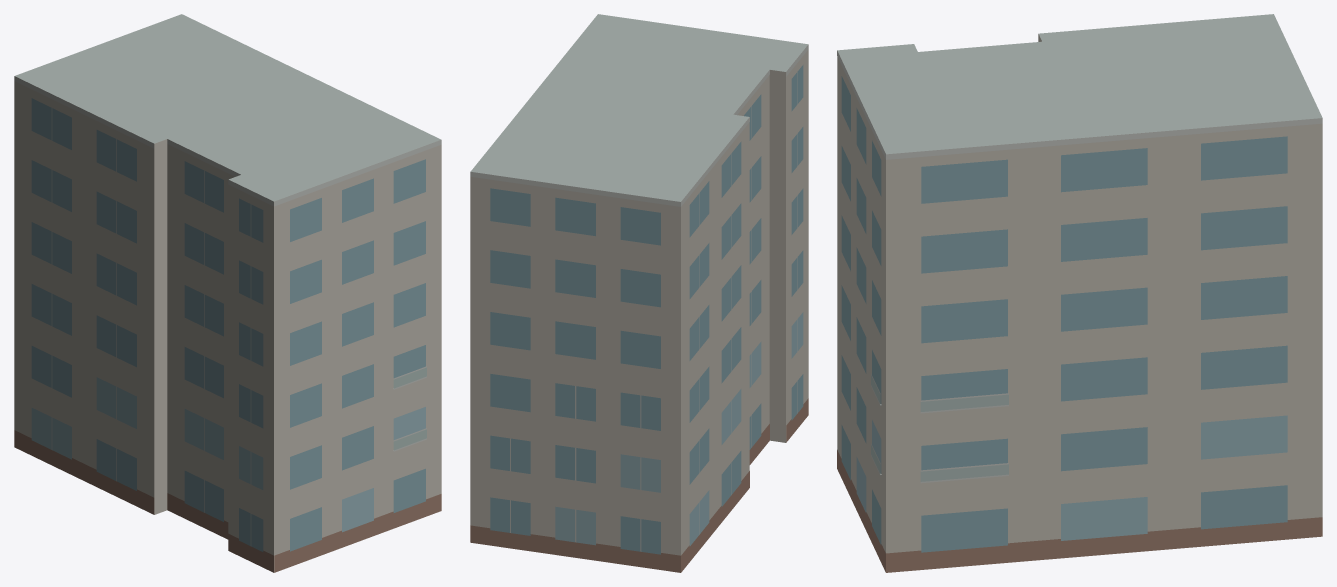
The model's file is survey-upis-32503916.glb.
3 views of the same model, side by side, from view 1: azimuth 30°, elevation 25°; view 2: azimuth 150°, elevation 25°; view 3: azimuth 270°, elevation 25° (orthographic). The views are drawn at different scales.
Parts seen in each view (by area): view 1: survey-upis-32503916.tmp; view 2: survey-upis-32503916.tmp; view 3: survey-upis-32503916.tmp.
Part boxes in pixels (x1,y1,x2,y2): survey-upis-32503916.tmp: (14,14,441,572); survey-upis-32503916.tmp: (470,14,808,572); survey-upis-32503916.tmp: (837,14,1322,572).
Bounding box in the file's own units: 13.17 × 18.3 × 19.25.
